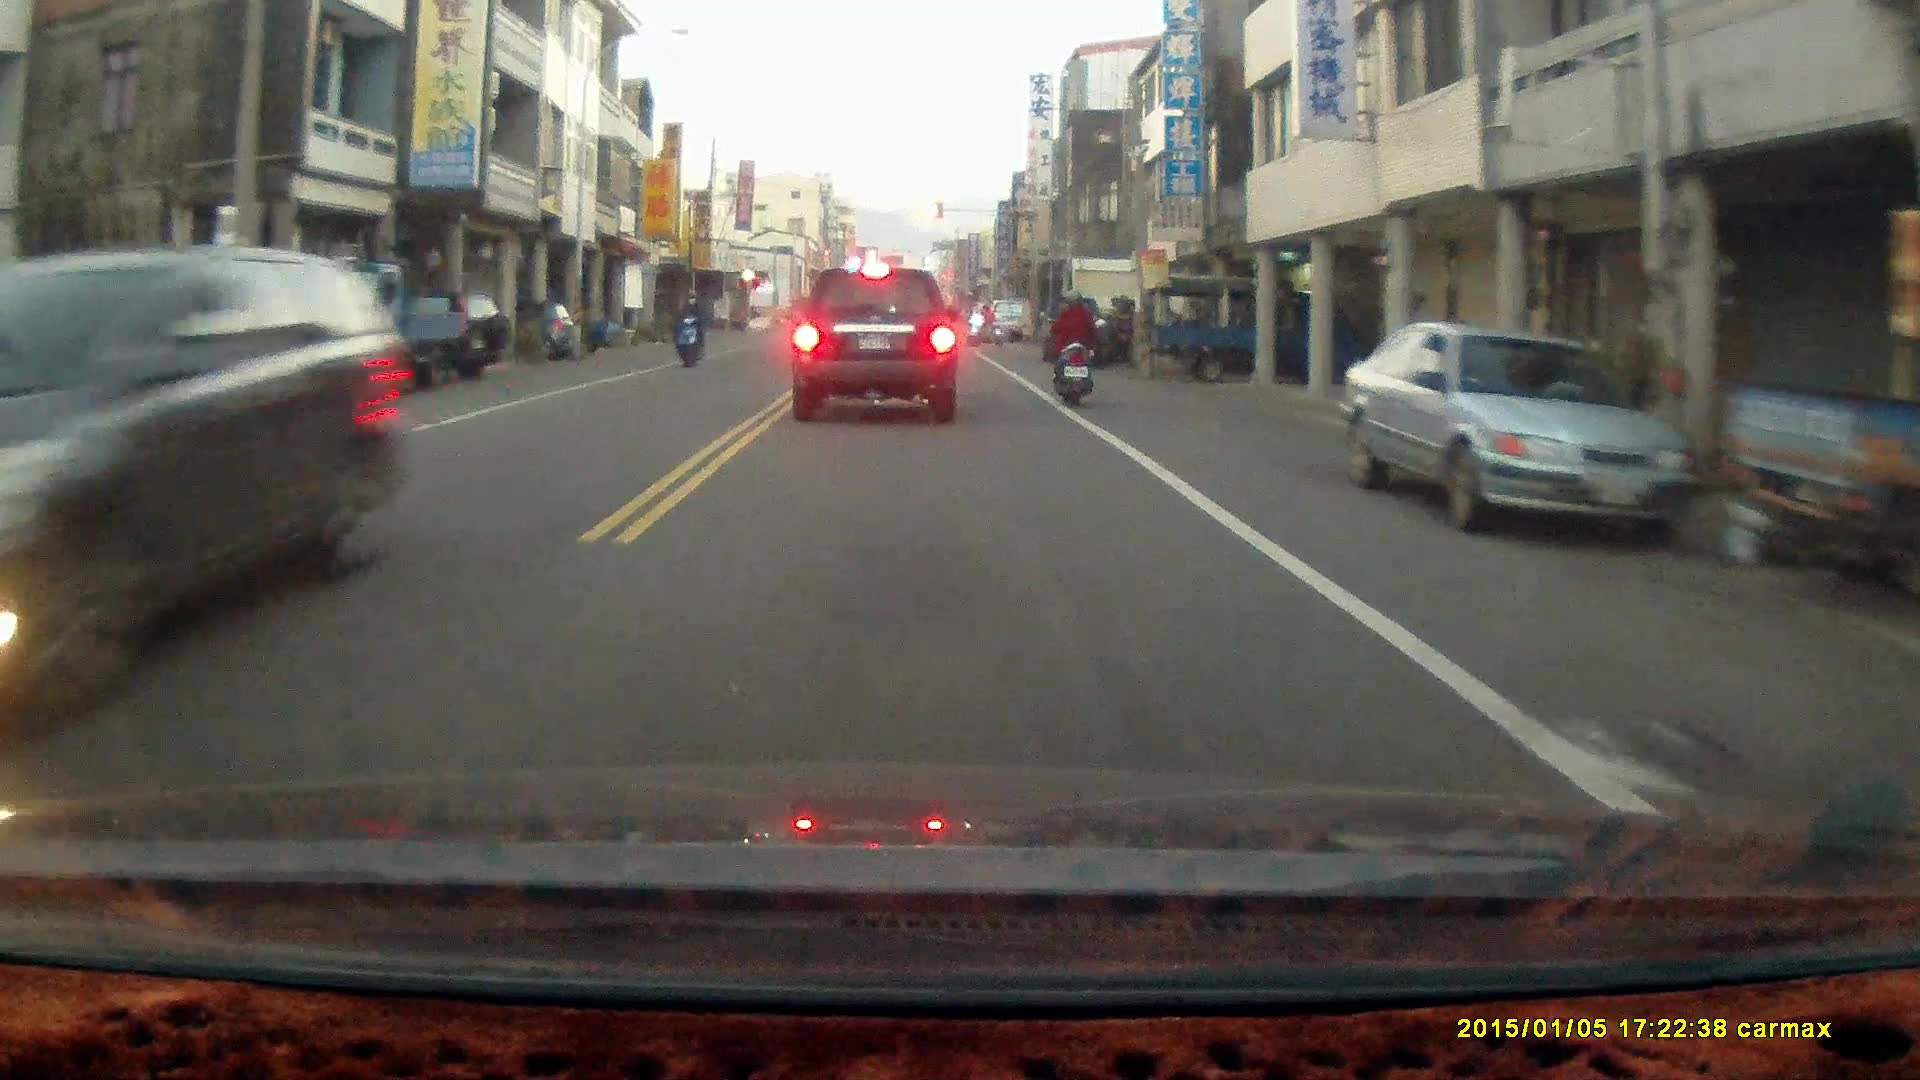rider: (1049, 286, 1098, 406), (672, 282, 709, 362), (964, 301, 1002, 348)
vehicle: (1, 239, 432, 695), (1341, 320, 1700, 552), (1722, 275, 1920, 615), (792, 261, 963, 427), (1147, 263, 1380, 375), (282, 246, 467, 379)
